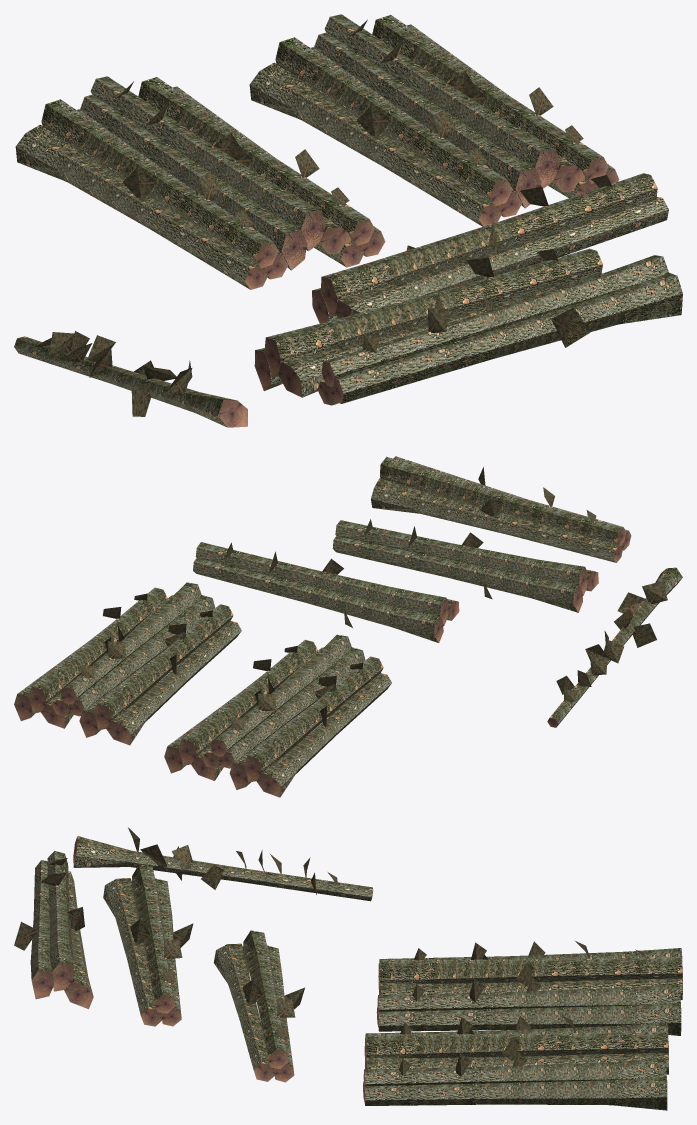
The model's file is sw_logs4.obj.
3 renders of one model, top to bottom at view 1: azimuth 30°, elevation 25°; view 2: azimuth 150°, elevation 25°; view 3: azimuth 270°, elevation 25°, orthographic. The views are drawn at different scales.
Parts seen in each view (by area): view 1: sw_logs4; view 2: sw_logs4; view 3: sw_logs4.
Boxes of the visible parts, box(x1,y1,x2,y2) form: sw_logs4: box(14, 14, 682, 427); sw_logs4: box(14, 456, 682, 797); sw_logs4: box(14, 827, 682, 1110).
Bounding box in the file's own units: 48 × 10.9 × 58.54.
Materials: 3 (3 with a texture image).
